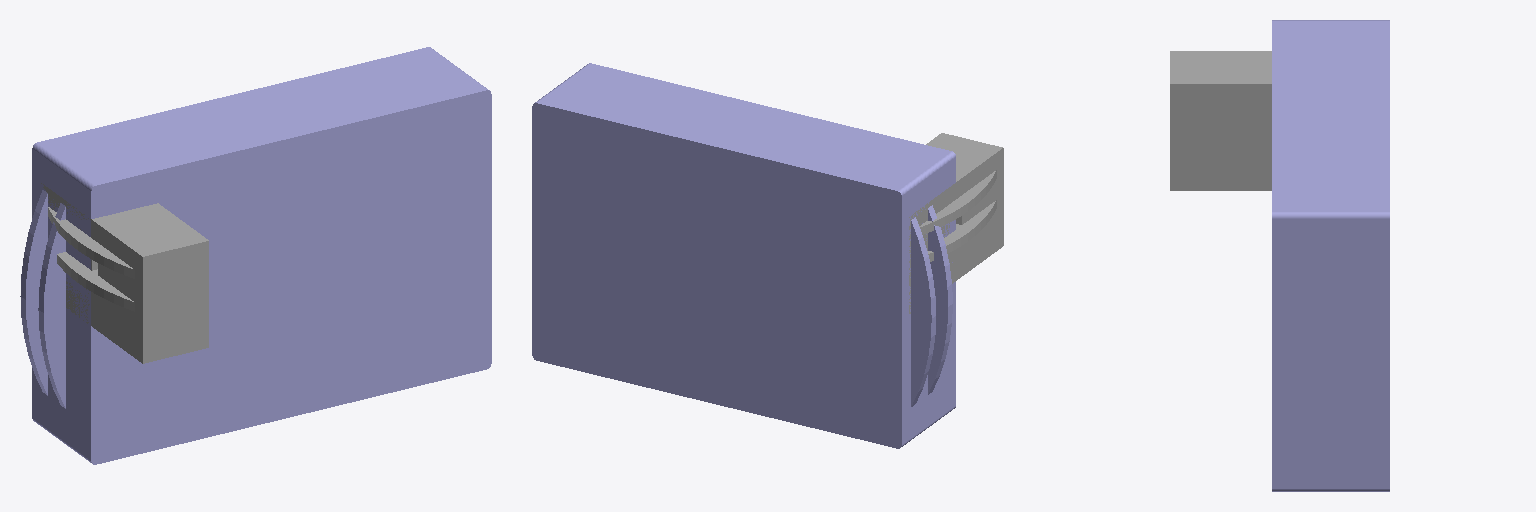
The robot description file, URDF, robot "agv":
<?xml version="1.0" ?>
<!-- =================================================================================== -->
<!-- |    This document was autogenerated by xacro from ur10_joint_limited_robot.urdf.xacro | -->
<!-- |    EDITING THIS FILE BY HAND IS NOT RECOMMENDED                                 | -->
<!-- =================================================================================== -->
<robot name="agv" xmlns:xacro="http://ros.org/wiki/xacro">
   <gazebo>
    <plugin name="gazebo_ros_control" filename="libgazebo_ros_control.so">
      <robotNamespace>/rrbot</robotNamespace>
      <robotSimType>gazebo_ros_control/DefaultRobotHWSim</robotSimType>
    </plugin>
  </gazebo>
  <!--
  Author: [author]
  Contributers: [author], [author], [author]
-->
  <!-- measured from model -->
<link name="world"/>
<joint name="world_joint" type="fixed">
  <parent link="world"/>
  <child link="agv_link_base"/>
  <origin rpy="0 0.0 0.0" xyz="0.0 0.0 0.0"/>
</joint>
<link name="agv_link_base"/>
<joint name="world_agv_joint_x" type="prismatic">
  <parent link="agv_link_base"/>
  <child link="agv_link_mid_1"/>
  <origin rpy="0.0 0.0 0.0" xyz="0.0 0.0 0.0"/>
  <axis xyz="1 0 0" />
  <limit effort="100.0" lower="-5" upper="5" velocity="1.0"/>
</joint>
<link name="agv_link_mid_1"/>
<joint name="world_agv_joint_y" type="prismatic">
  <parent link="agv_link_mid_1"/>
  <child link="agv_link_mid_2"/>
  <origin rpy="0.0 0.0 0.0" xyz="0.0 0.0 0.0"/>
  <axis xyz="0 1 0" />
  <limit effort="100.0" lower="-5" upper="5" velocity="1.0"/>
</joint>
<link name="agv_link_mid_2"/>
<joint name="world_agv_joint_z" type="continuous">
  <parent link="agv_link_mid_2"/>
  <child link="agv_link"/>
  <origin rpy="0.0 0.0 0.0" xyz="0.0 0.0 0.0"/>
  <axis xyz="0 0 1" />  
  <!-- <limit effort="999.0" velocity="1.0"/> -->
</joint>
<link name="agv_link">
    <visual>
      <geometry>
        <mesh filename="package://agv_description/meshes/agv_base/agv.STL"/>
      </geometry>
      <material name="LightGrey">
        <color rgba="0.7 0.7 0.9 1.0"/>
      </material>
    </visual>
    <collision>
      <geometry>
        <mesh filename="package://agv_description/meshes/agv_base/agv.STL"/>
      </geometry>
    </collision>
    <inertial>
      <mass value="4.0"/>
      <origin rpy="0 0 0" xyz="0.0 0.0 0.0"/>
      <inertia ixx="0.0061063308908" ixy="0.0" ixz="0.0" iyy="0.0061063308908" iyz="0.0" izz="0.01125"/>
    </inertial>
  </link>

<joint name="world_charge_base_joint" type="fixed">
  <parent link="world"/>
  <child link="charge_base_link"/>
  <origin rpy="1.5707963267949 0.0 0.0" xyz="0.0 0.0 0.0"/>
</joint>
<link name="charge_base_link">
    <visual>
      <geometry>
        <mesh filename="package://agv_description/meshes/agv_base/base.STL"/>
      </geometry>
      <material name="LightGrey">
        <color rgba="0.7 0.7 0.7 0.2"/>
      </material>
    </visual>
    <collision>
      <geometry>
        <mesh filename="package://agv_description/meshes/agv_base/base.STL"/>
      </geometry>
    </collision>
 </link>
<!--   <transmission name="agv_link">
    <type>transmission_interface/SimpleTransmission</type>
    <joint name="agv_link">
      <hardwareInterface>hardware_interface/PositionJointInterface</hardwareInterface>
    </joint>
    <actuator name="agv_link">
      <mechanicalReduction>1</mechanicalReduction>
    </actuator>
  </transmission> -->

  <gazebo reference="agv_link">
    <mu1>0.2</mu1>
    <mu2>0.2</mu2>
    <!-- <selfCollide>true</selfCollide> -->
    <material>Gazebo/Orange</material>
  </gazebo>

</robot>

--- Render facts (derived) ---
Views: 3 orthographic renders of the robot side by side, from view 1: azimuth 30°, elevation 25°; view 2: azimuth 150°, elevation 25°; view 3: azimuth 270°, elevation 25°.
Robot: agv — 6 links, 5 joints (1 continuous, 2 prismatic, 2 fixed); root link world; default pose: all joints at 0.
Visible links, largest first — view 1: agv_link, charge_base_link; view 2: agv_link, charge_base_link; view 3: agv_link, charge_base_link.
Link boxes in pixels (x1,y1,x2,y2): agv_link: (20, 47, 491, 464); charge_base_link: (41, 183, 208, 363); agv_link: (532, 63, 955, 448); charge_base_link: (909, 133, 1003, 313); agv_link: (1272, 20, 1389, 491); charge_base_link: (1170, 51, 1271, 190).
Size in the robot's own frame: 0.95 by 0.43 by 0.6 metres.
2 mesh visuals loaded from 2 distinct referenced files (2 binary STL).